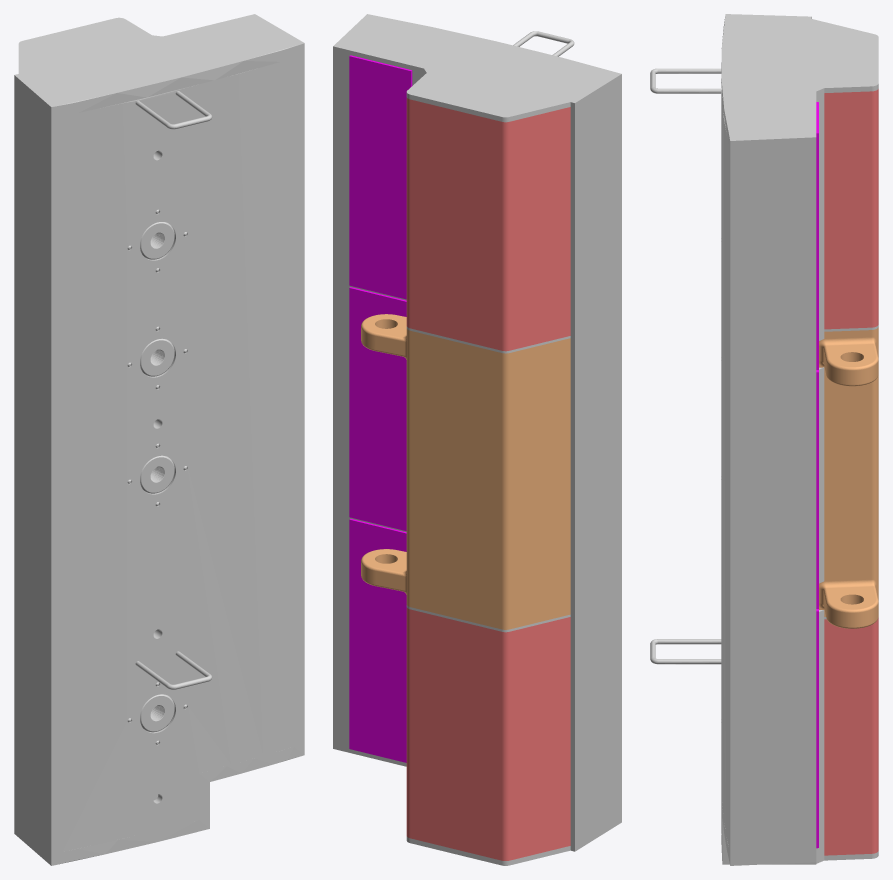
File: SAGMill_ShellLiner_Composite_[W9_5769_24_D].glb
3 renders of one model, left to right at view 1: azimuth 30°, elevation 25°; view 2: azimuth 150°, elevation 25°; view 3: azimuth 270°, elevation 25°, orthographic. The views are drawn at different scales.
Parts seen in each view (by area): view 1: Node3, Node4, Node1, Node5, Node6; view 2: Node7, Node2, Node8, Node4, Node10, Node5, Node3, Node1, Node6; view 3: Node1, Node2, Node3, Node7, Node6, Node8, Node4.
Part boxes in pixels (box(x1,y1,x2,y2)): Node3: box(15, 14, 304, 851); Node4: box(14, 75, 209, 865); Node1: box(51, 43, 304, 865); Node5: box(115, 70, 249, 745); Node6: box(128, 91, 212, 744); Node7: box(361, 314, 570, 629); Node2: box(406, 97, 570, 860); Node8: box(349, 55, 412, 762); Node4: box(410, 32, 621, 851); Node10: box(410, 107, 570, 860); Node5: box(333, 46, 574, 865); Node3: box(333, 14, 621, 353); Node1: box(406, 31, 574, 865); Node6: box(410, 32, 573, 352); Node1: box(650, 19, 878, 865); Node2: box(824, 89, 878, 855); Node3: box(650, 14, 878, 864); Node7: box(819, 327, 878, 628); Node6: box(650, 86, 871, 722); Node8: box(816, 102, 818, 848); Node4: box(653, 72, 824, 863).
Bounding box in the file's own units: 0.5733 × 1.62 × 0.435.
